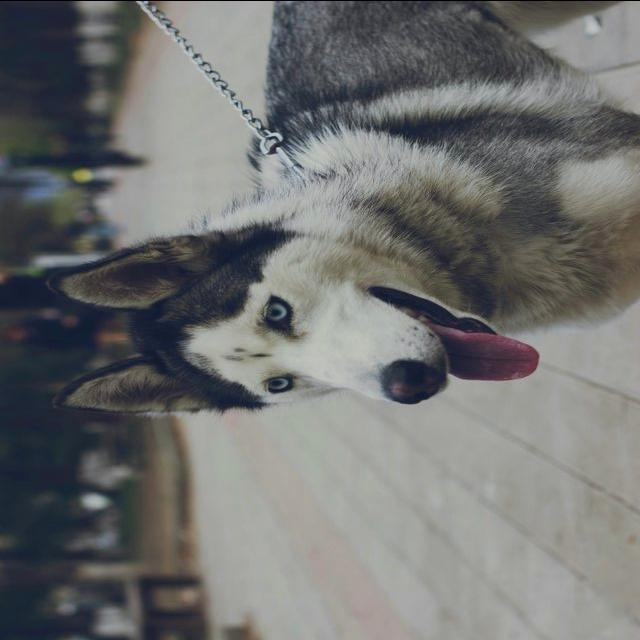husky: (44, 0, 638, 416)
